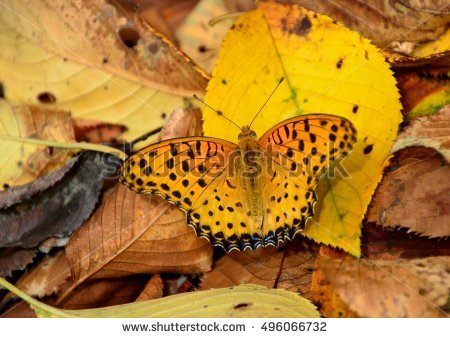Argyreus hyperbius: (114, 72, 362, 253)
butterfly: (116, 74, 364, 255)
